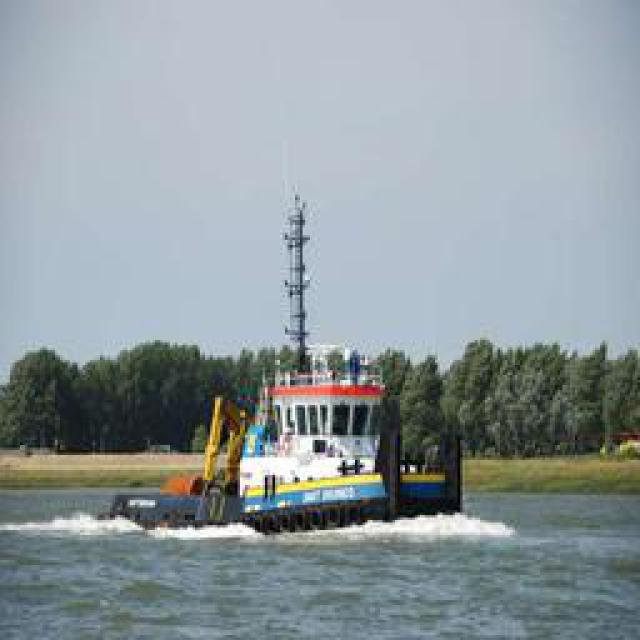Ship: (104, 358, 454, 543)
